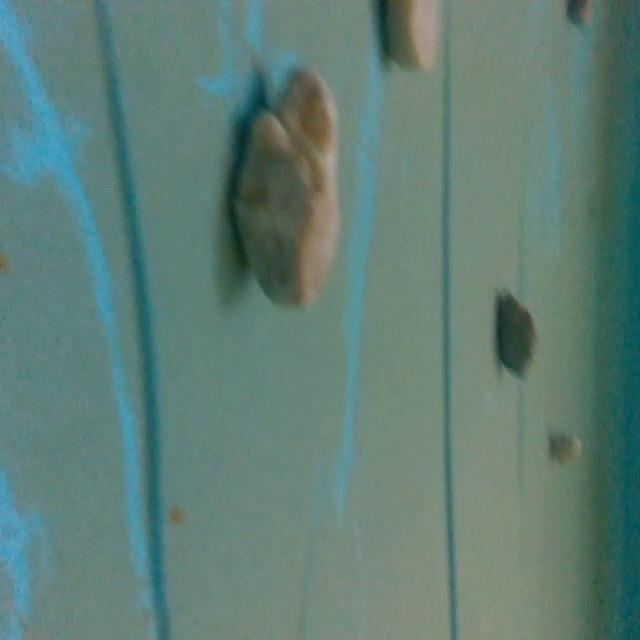rock: (230, 59, 348, 314), (376, 3, 444, 77), (492, 284, 542, 382), (549, 423, 582, 469), (566, 0, 595, 35)
